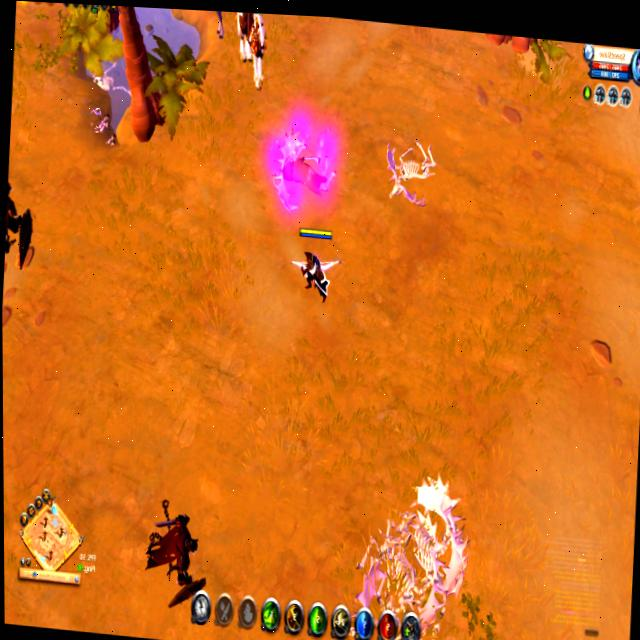mob: (268, 127, 339, 212)
ore: (144, 505, 206, 608), (3, 181, 41, 283)
red: (292, 222, 341, 300), (228, 12, 265, 19), (202, 10, 229, 14)
